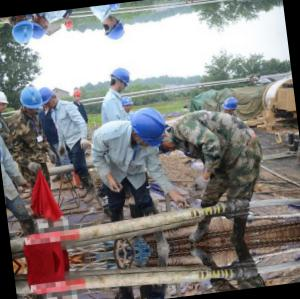helmet: (129, 104, 174, 152), (21, 82, 49, 115), (13, 16, 41, 49), (109, 64, 136, 94), (103, 15, 130, 45), (38, 85, 59, 112), (29, 15, 50, 42), (222, 96, 242, 116), (120, 95, 137, 116), (1, 87, 13, 114), (73, 86, 85, 103), (64, 17, 76, 34), (108, 3, 125, 13), (1, 24, 5, 51)
